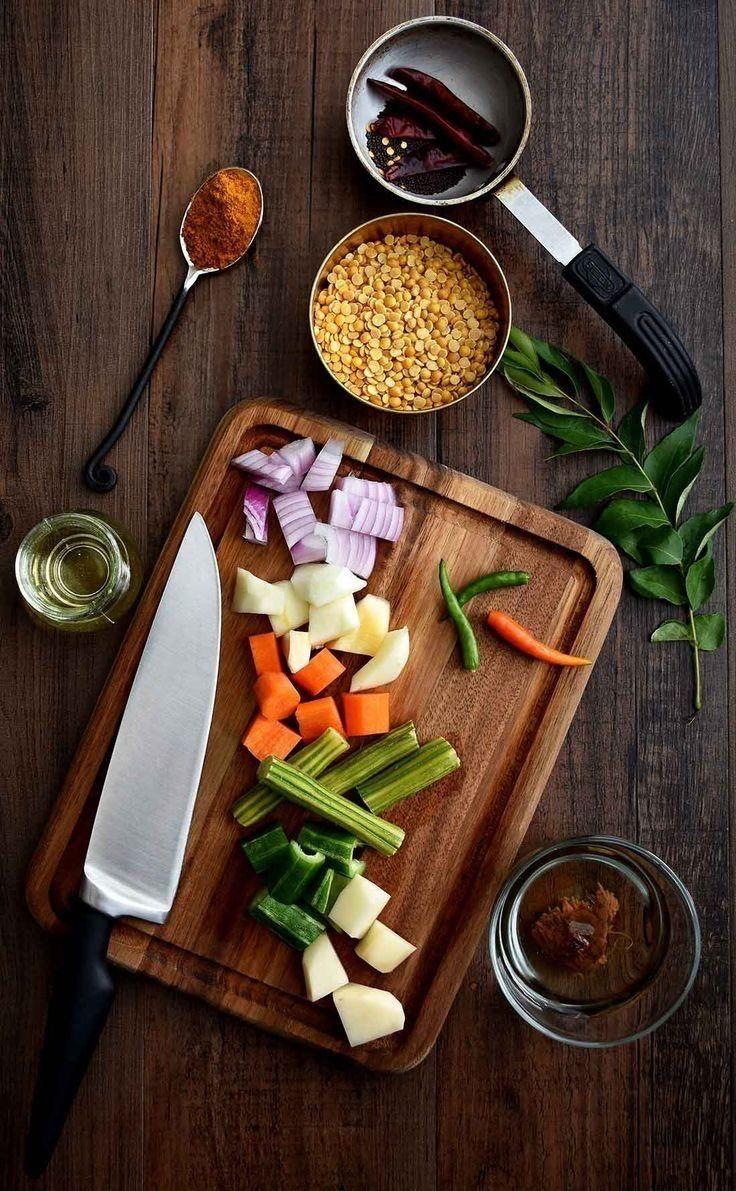carrot: (226, 630, 420, 767), (242, 809, 245, 815)
onion: (169, 417, 411, 578)
